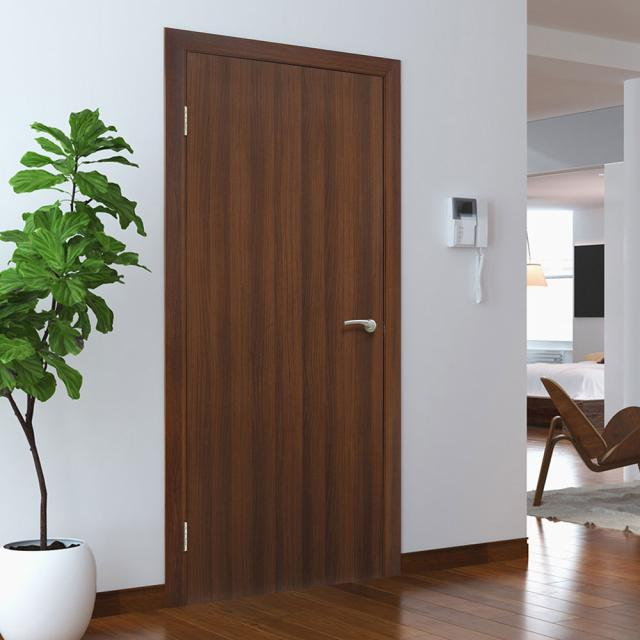close: (168, 68, 392, 592)
